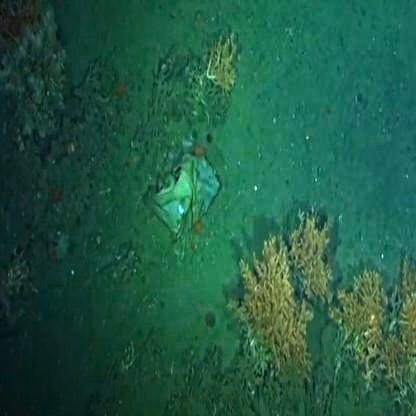misc: (139, 145, 233, 244)
